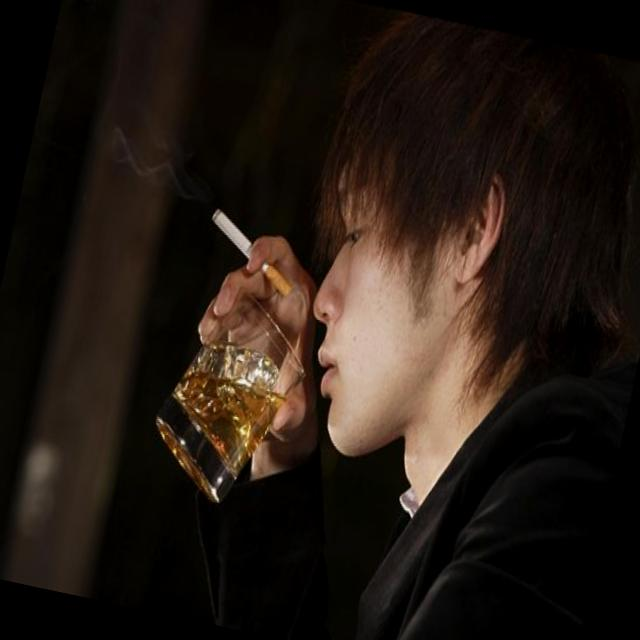smoke: (197, 204, 303, 302)
